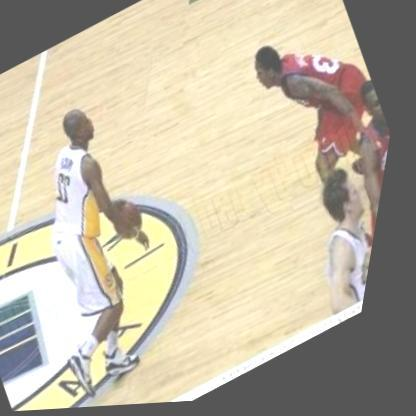basketball: (99, 188, 167, 256)
